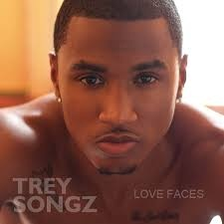no_mask: (62, 16, 173, 173)
